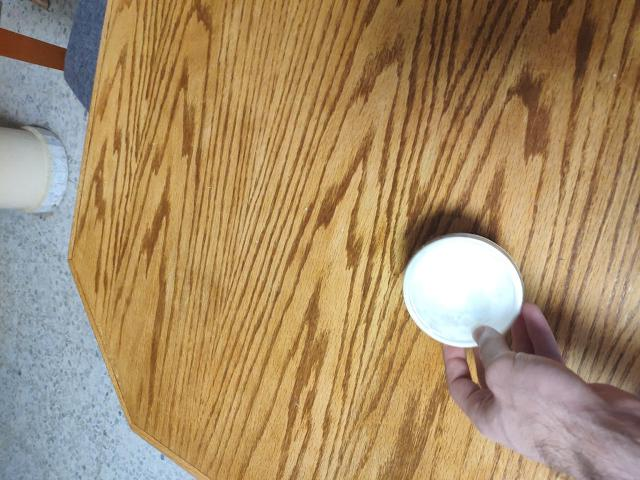cotage: (390, 232, 540, 363)
